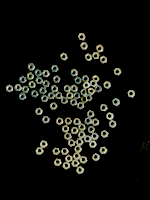nut: (76, 166, 84, 175), (71, 160, 80, 168), (99, 147, 108, 155), (68, 139, 76, 148), (87, 126, 96, 134), (106, 112, 114, 121), (26, 73, 35, 81), (77, 33, 86, 41), (63, 162, 71, 170), (54, 159, 62, 167), (80, 156, 88, 164), (65, 155, 73, 163), (61, 148, 69, 156), (36, 148, 44, 156), (40, 141, 48, 149), (52, 148, 60, 156), (89, 141, 97, 149), (64, 133, 72, 141), (91, 133, 99, 141), (101, 130, 109, 138), (109, 120, 117, 128), (78, 123, 86, 131), (71, 127, 79, 135), (62, 125, 70, 133), (92, 119, 100, 127), (73, 118, 81, 126), (56, 118, 64, 126), (87, 110, 95, 118), (100, 104, 108, 112), (128, 90, 136, 98), (42, 116, 50, 124), (35, 108, 43, 116), (77, 102, 85, 110), (70, 99, 78, 107), (73, 92, 81, 100), (88, 88, 96, 96), (94, 85, 102, 93), (104, 81, 112, 89), (114, 68, 122, 76), (18, 93, 26, 101), (14, 84, 22, 92), (31, 90, 39, 98), (41, 95, 49, 103), (39, 87, 47, 95), (51, 85, 59, 93), (28, 81, 36, 89), (19, 76, 27, 84), (35, 77, 43, 85), (42, 80, 50, 88), (34, 69, 42, 77), (42, 70, 50, 78), (51, 65, 59, 73), (90, 80, 98, 88), (74, 77, 82, 85), (70, 69, 78, 77), (60, 53, 68, 61), (92, 52, 100, 60), (100, 56, 108, 64), (96, 45, 104, 53), (80, 42, 88, 50), (93, 153, 100, 162), (85, 117, 92, 126), (64, 118, 73, 125), (113, 98, 120, 107), (21, 86, 30, 93), (82, 82, 91, 89), (85, 53, 92, 62), (73, 153, 81, 160), (74, 146, 82, 153), (76, 139, 84, 146), (84, 136, 92, 143), (78, 132, 86, 139), (50, 103, 58, 110), (81, 96, 88, 104), (86, 94, 93, 102), (66, 92, 73, 100), (61, 97, 68, 105), (80, 89, 88, 96), (6, 85, 13, 93), (55, 92, 62, 100), (47, 93, 55, 100), (64, 85, 71, 93), (71, 85, 78, 93), (27, 64, 35, 71), (53, 76, 61, 83), (92, 76, 100, 83), (82, 76, 90, 83)
